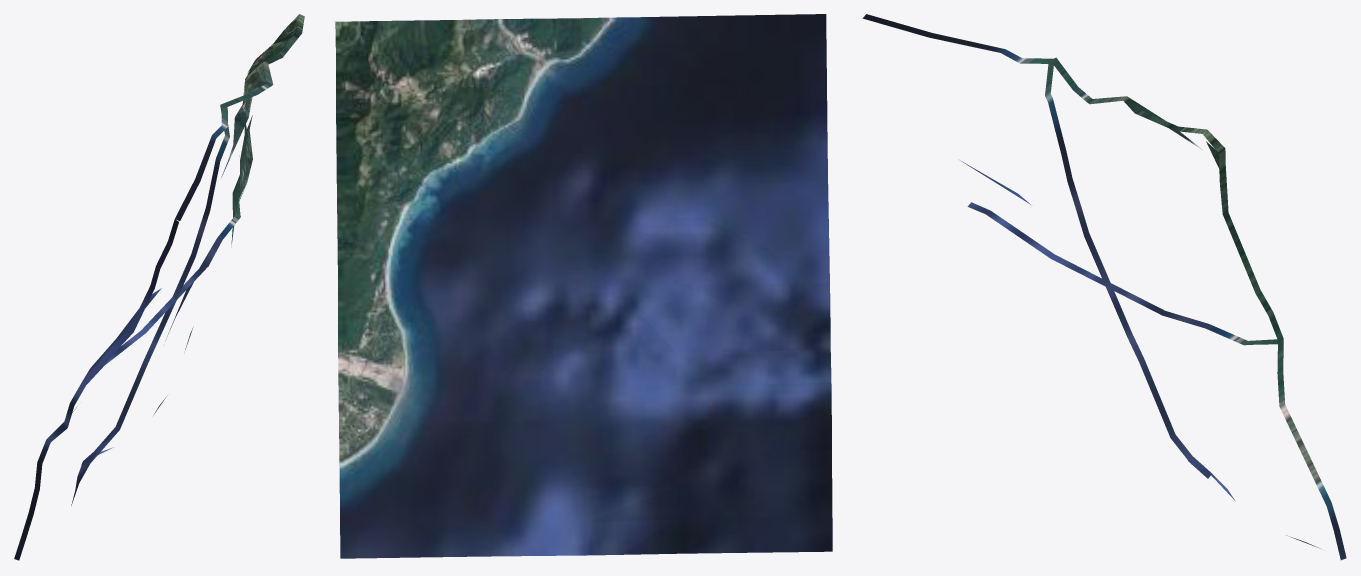
3 views of the same model, side by side, from view 1: azimuth 30°, elevation 25°; view 2: azimuth 150°, elevation 25°; view 3: azimuth 270°, elevation 25° (orthographic). The views are drawn at different scales.
Size of the model in its own units: 17767 by 19643 by 17777.
Materials: 1 (1 with a texture image).
